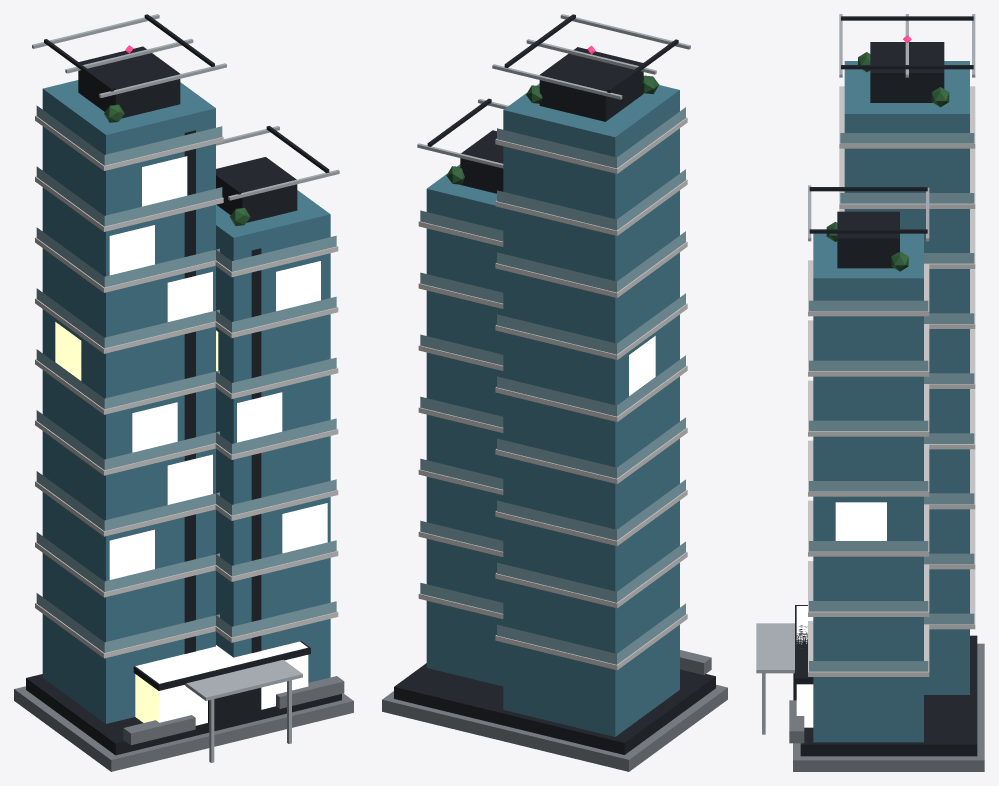
The model's file is modern_highrise_block.glb.
3 renders of one model, left to right at view 1: azimuth 30°, elevation 25°; view 2: azimuth 150°, elevation 25°; view 3: azimuth 270°, elevation 25°, orthographic. The views are drawn at different scales.
Parts seen in each view (by area): view 1: ModernHighriseBlock_mat0, ModernHighriseBlock_mat1, ModernHighriseBlock_mat2; view 2: ModernHighriseBlock_mat0, ModernHighriseBlock_mat1; view 3: ModernHighriseBlock_mat0, ModernHighriseBlock_mat1, ModernHighriseBlock_mat2.
Part boxes in pixels (<box>): ModernHighriseBlock_mat0: <box>14,14,353,771</box>; ModernHighriseBlock_mat1: <box>55,156,327,579</box>; ModernHighriseBlock_mat2: <box>135,641,308,725</box>; ModernHighriseBlock_mat0: <box>382,14,727,771</box>; ModernHighriseBlock_mat1: <box>629,336,655,395</box>; ModernHighriseBlock_mat0: <box>756,14,984,771</box>; ModernHighriseBlock_mat1: <box>835,502,886,540</box>; ModernHighriseBlock_mat2: <box>796,606,813,727</box>.
Bounding box in the file's own units: 7.5 × 19.68 × 6.2.
